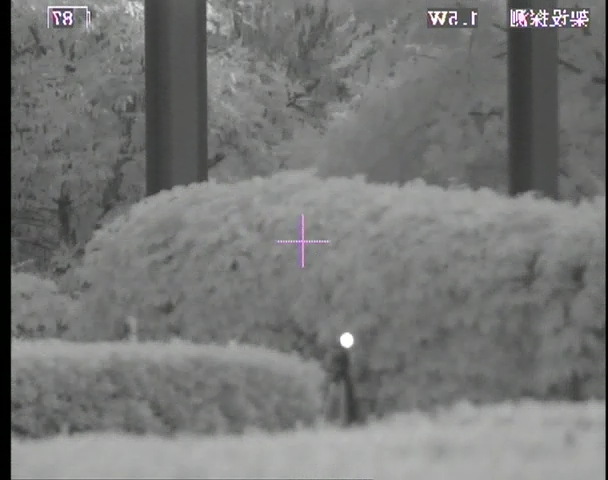my: (338, 331, 354, 349)
